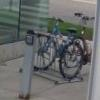Bicycle: (23, 15, 87, 84)
